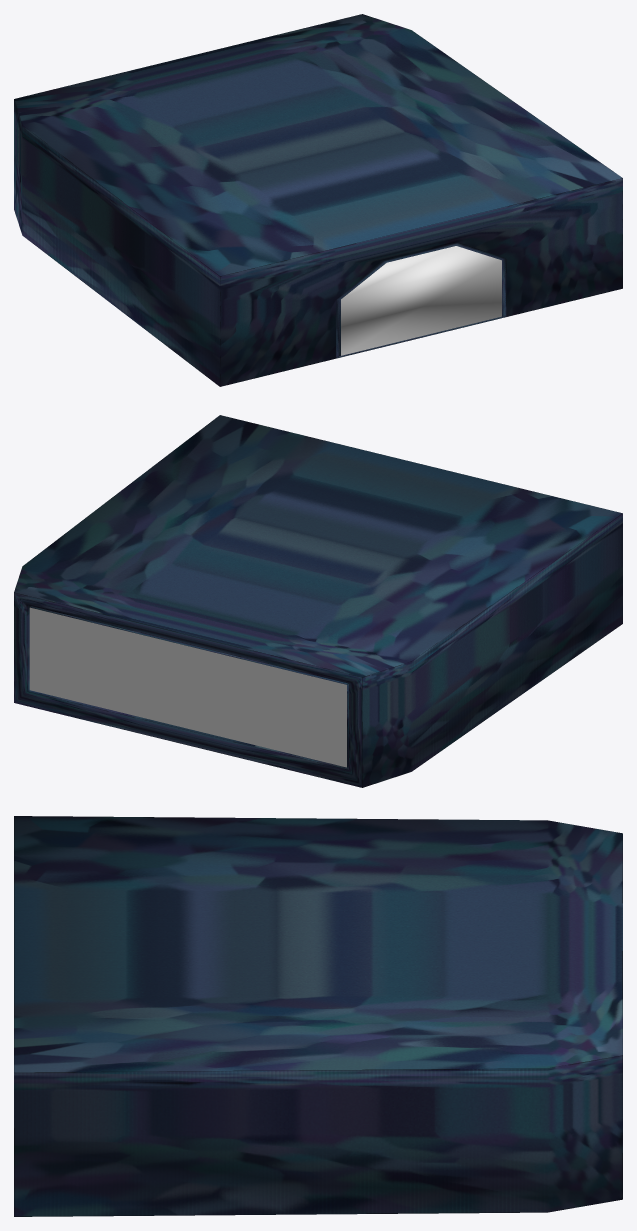
Rendered from Nave.fbx.
3 views of the same model, one above another, from view 1: azimuth 30°, elevation 25°; view 2: azimuth 150°, elevation 25°; view 3: azimuth 270°, elevation 25° (orthographic). The views are drawn at different scales.
Parts seen in each view (by area): view 1: WallsBack, WallsFront; view 2: WallsFront, WallsBack, Interior; view 3: WallsBack, WallsFront.
Part boxes in pixels (x1,y1,x2,y2): WallsBack: (107, 94, 622, 386); WallsFront: (14, 14, 502, 300); WallsFront: (14, 501, 502, 787); WallsBack: (108, 415, 622, 707); Interior: (29, 607, 346, 767); WallsBack: (14, 816, 317, 1216); WallsFront: (317, 818, 622, 1214).
Bounding box in the file's own units: 1944 × 522 × 1949.
Materials: 4 (2 with a texture image).
